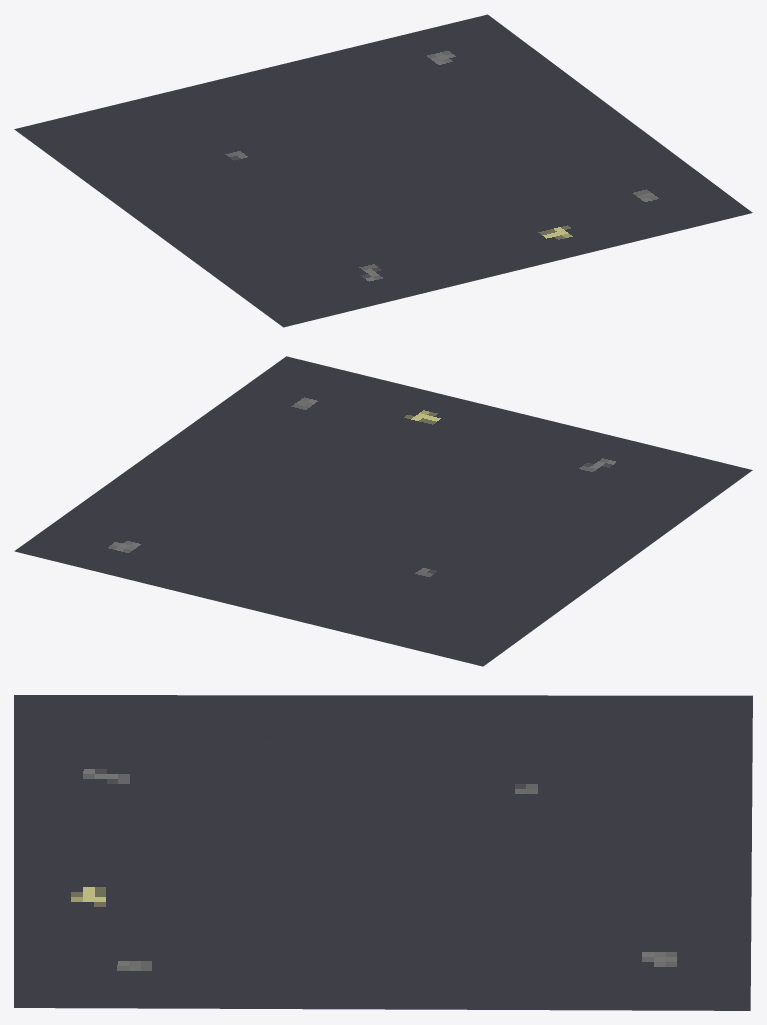
Rendered from Floor.glb.
The picture shows the model from 3 angles, top to bottom: view 1: azimuth 30°, elevation 25°; view 2: azimuth 150°, elevation 25°; view 3: azimuth 270°, elevation 25°; orthographic projection. The views are drawn at different scales.
Parts seen in each view (by area): view 1: floor-col; view 2: floor-col; view 3: floor-col.
Boxes of the visible parts, box(x1,y1,x2,y2) form: floor-col: box(14, 14, 752, 327); floor-col: box(14, 356, 752, 666); floor-col: box(14, 695, 752, 1010).
Bounding box in the file's own units: 3.99 × 0 × 3.95.
1 material, 1 textured.
